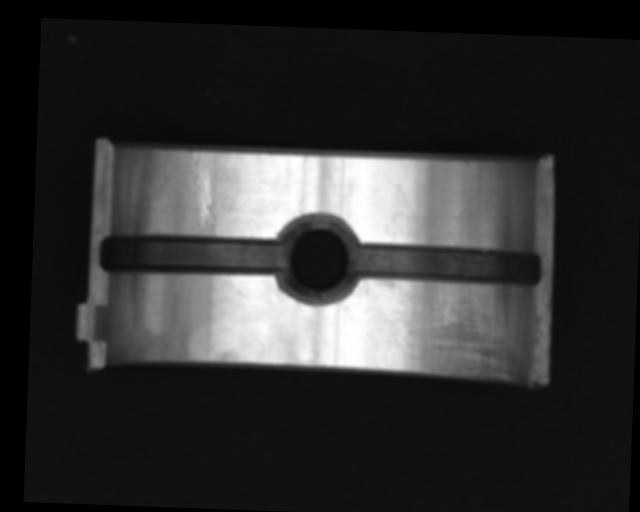gap: (351, 240, 541, 287), (98, 232, 284, 278)
hole: (274, 215, 362, 305)
nick: (188, 149, 217, 227)
scratch: (377, 279, 526, 387)
